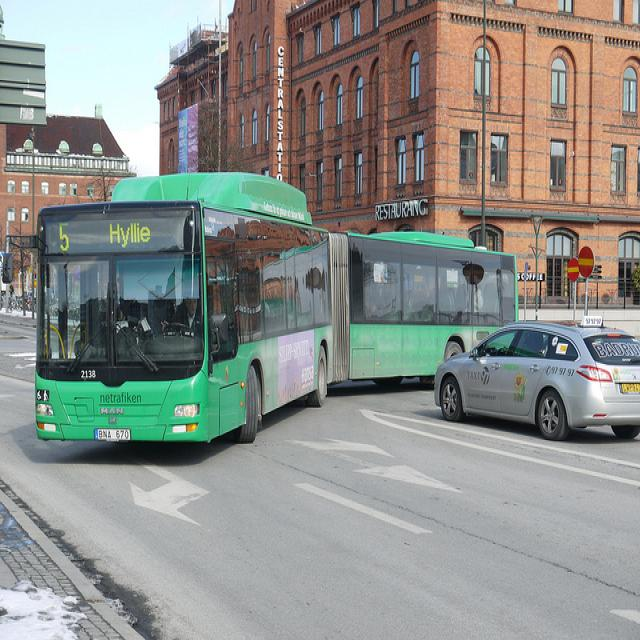Vehicle: (30, 168, 521, 447), (434, 320, 639, 440)
